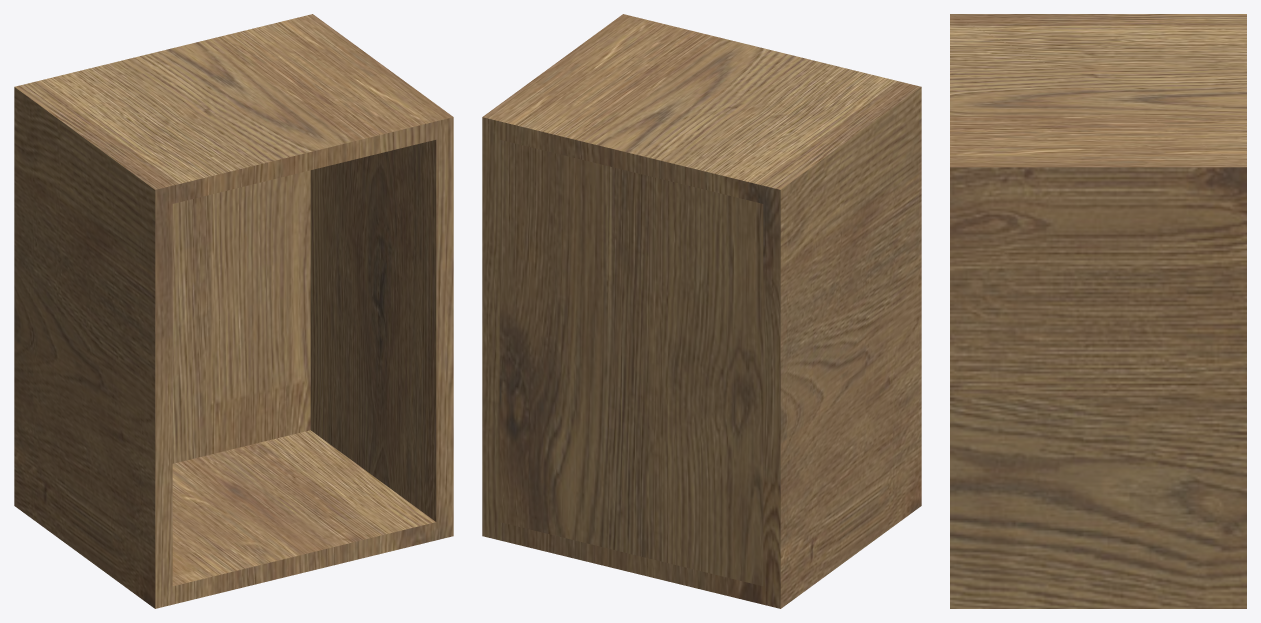
The model's file is шкафчик1.fbx.
3 renders of one model, left to right at view 1: azimuth 30°, elevation 25°; view 2: azimuth 150°, elevation 25°; view 3: azimuth 270°, elevation 25°, orthographic. The views are drawn at different scales.
Parts seen in each view (by area): view 1: Cube; view 2: Cube; view 3: Cube.
Boxes of the visible parts, box(x1,y1,x2,y2) form: Cube: box(14, 14, 453, 608); Cube: box(482, 14, 921, 608); Cube: box(950, 14, 1246, 608).
Size of the model in its own units: 395 by 530 by 323.
Materials: 1 (1 with a texture image).
